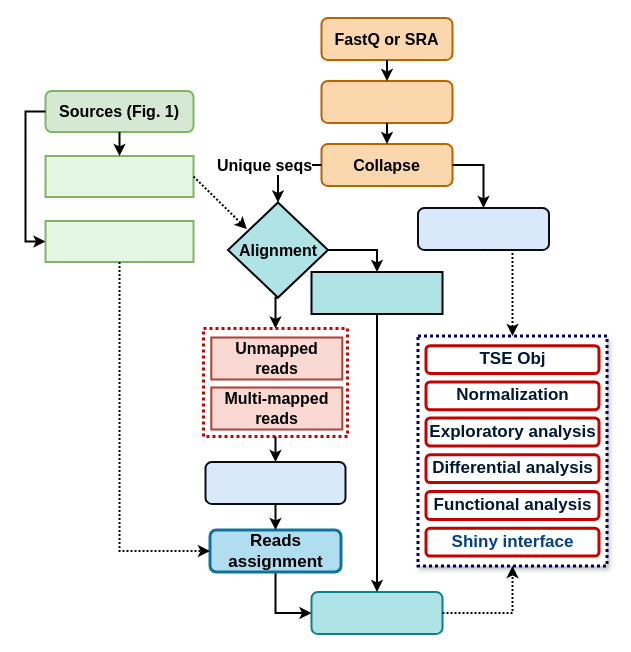
This 631x652 diagram has some shape labels left out. The shapes that lost their labels are listed below. From the top down, each one's centre as x and y in pixels, then its label:
[386,102]: QC
[119,176]: Custom genome
[119,241]: Feature tree (Fig. 2)
[483,228]: Count matrix
[376,292]: BAM
[275,482]: Customised assignment rules
[376,612]: Seq sources
